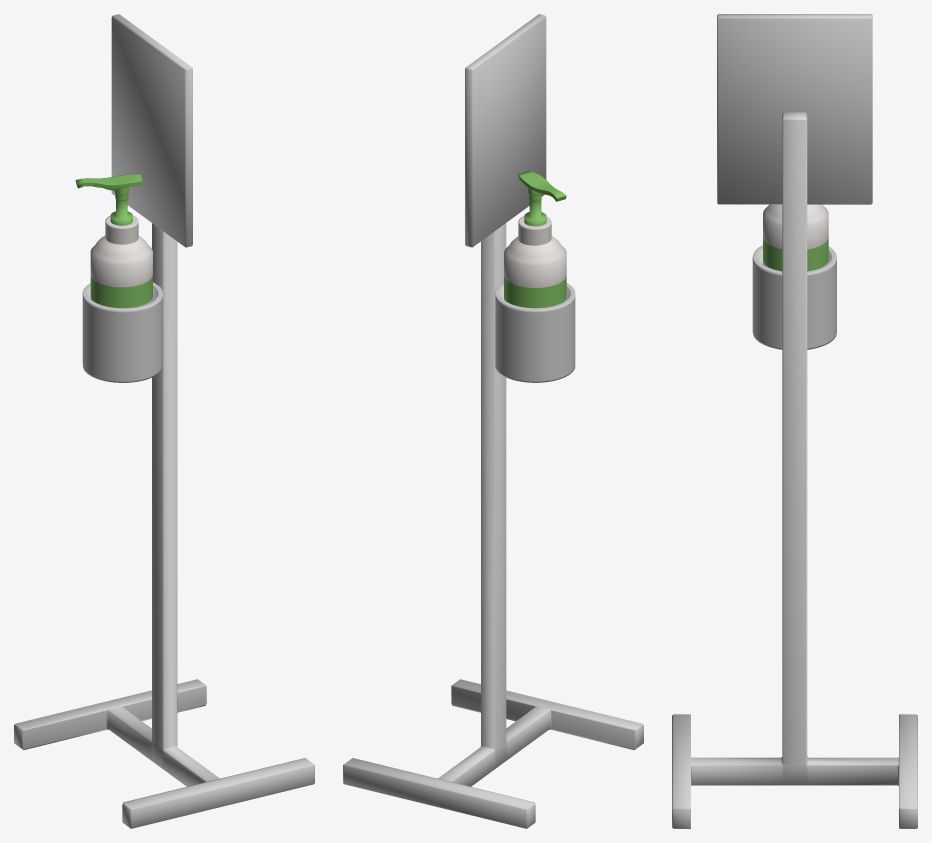
Rendered from DisinfectantHolderV2.fbx.
3 views of the same model, side by side, from view 1: azimuth 30°, elevation 25°; view 2: azimuth 150°, elevation 25°; view 3: azimuth 270°, elevation 25° (orthographic). The views are drawn at different scales.
Parts seen in each view (by area): view 1: Base, Top; view 2: Base, Top; view 3: Base.
Boxes of the visible parts, x1,y1,x2,y2 form: Base: (14,14,314,828); Top: (75,174,142,225); Base: (343,14,643,828); Top: (517,170,566,226); Base: (672,14,917,828).
Size of the model in its own units: 36.99 by 139 by 40.65.
